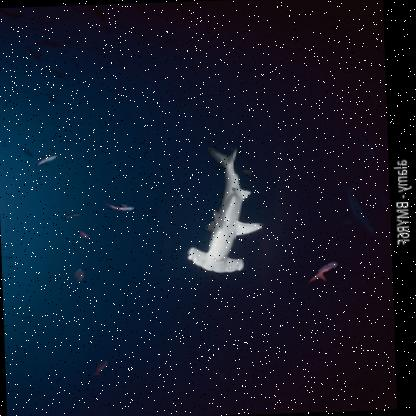hammerhead_Shark: (150, 140, 281, 289)
